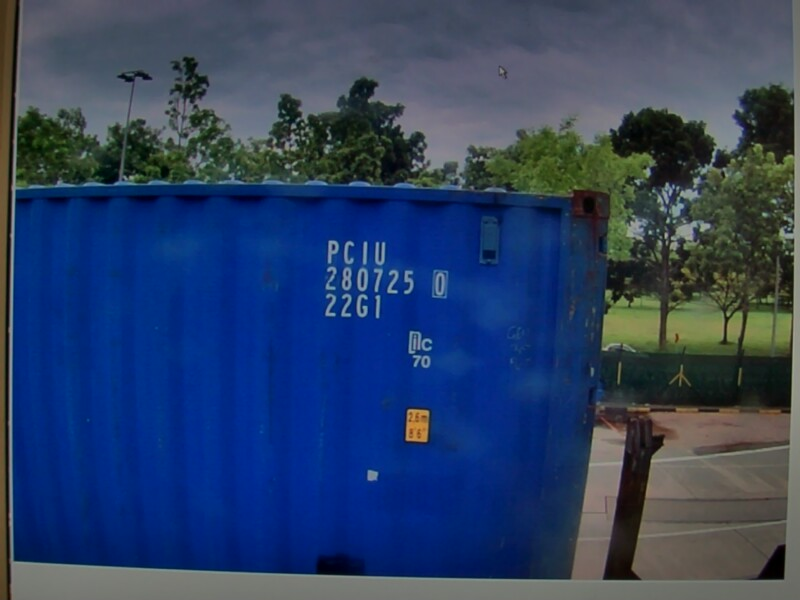container_no_door: (19, 183, 531, 554)
